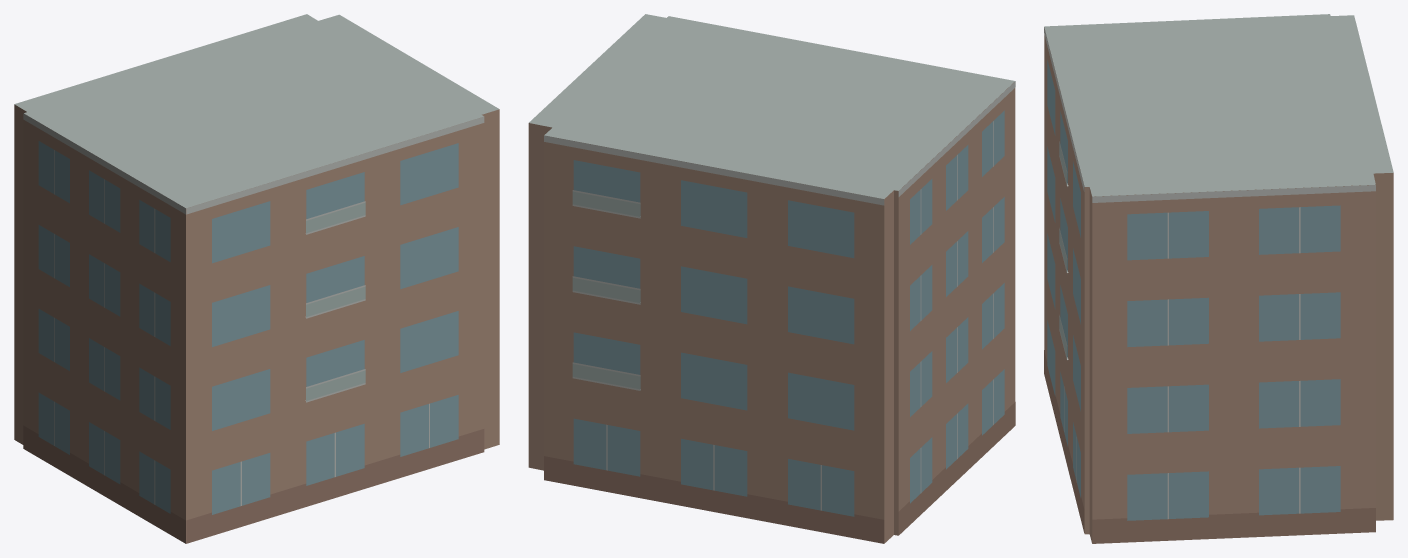
The model's file is survey-upis-32654171.glb.
3 renders of one model, left to right at view 1: azimuth 30°, elevation 25°; view 2: azimuth 150°, elevation 25°; view 3: azimuth 270°, elevation 25°, orthographic. The views are drawn at different scales.
Parts seen in each view (by area): view 1: survey-upis-32654171.tmp; view 2: survey-upis-32654171.tmp; view 3: survey-upis-32654171.tmp.
Part boxes in pixels (x1,y1,x2,y2): survey-upis-32654171.tmp: [14, 14, 499, 543]; survey-upis-32654171.tmp: [528, 14, 1015, 543]; survey-upis-32654171.tmp: [1044, 14, 1393, 543].
Size of the model in its own units: 14.66 by 13 by 11.87.
